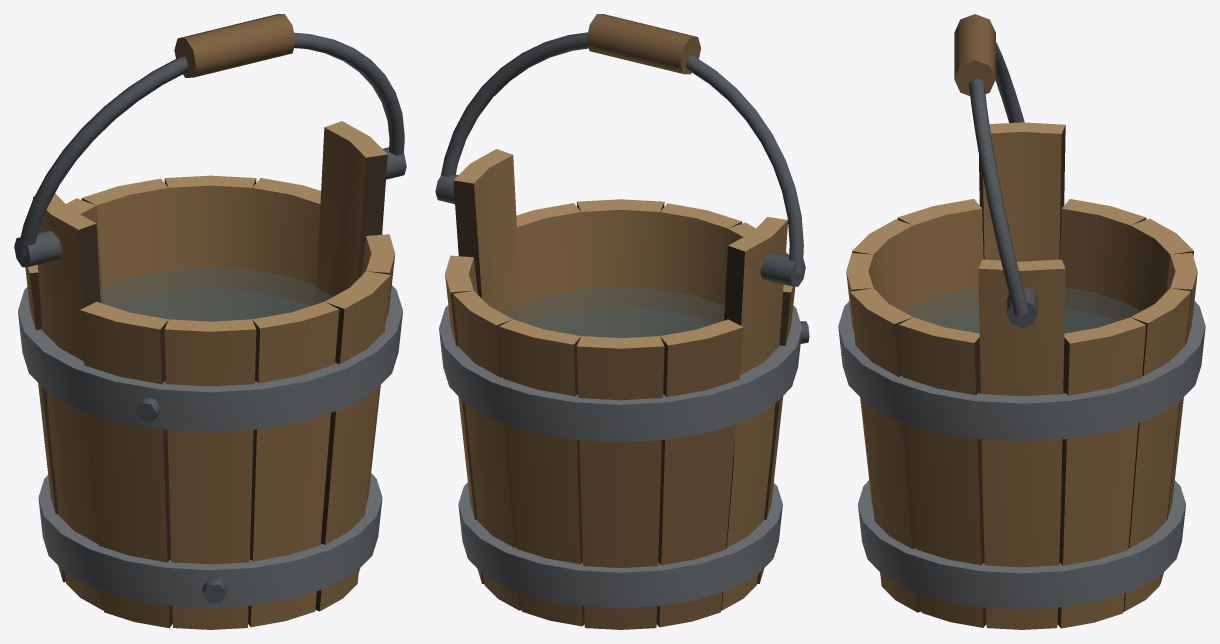
The model's file is SM_LPD_Crate_BucketWood_01.fbx.
3 views of the same model, side by side, from view 1: azimuth 30°, elevation 25°; view 2: azimuth 150°, elevation 25°; view 3: azimuth 270°, elevation 25° (orthographic). The views are drawn at different scales.
Parts seen in each view (by area): view 1: SM_LPD_Crate_BucketWood_01; view 2: SM_LPD_Crate_BucketWood_01; view 3: SM_LPD_Crate_BucketWood_01.
Boxes of the visible parts, x1,y1,x2,y2 form: SM_LPD_Crate_BucketWood_01: [14, 14, 406, 629]; SM_LPD_Crate_BucketWood_01: [435, 14, 809, 629]; SM_LPD_Crate_BucketWood_01: [838, 14, 1205, 629].
Bounding box in the file's own units: 0.3869 × 0.5365 × 0.335.
